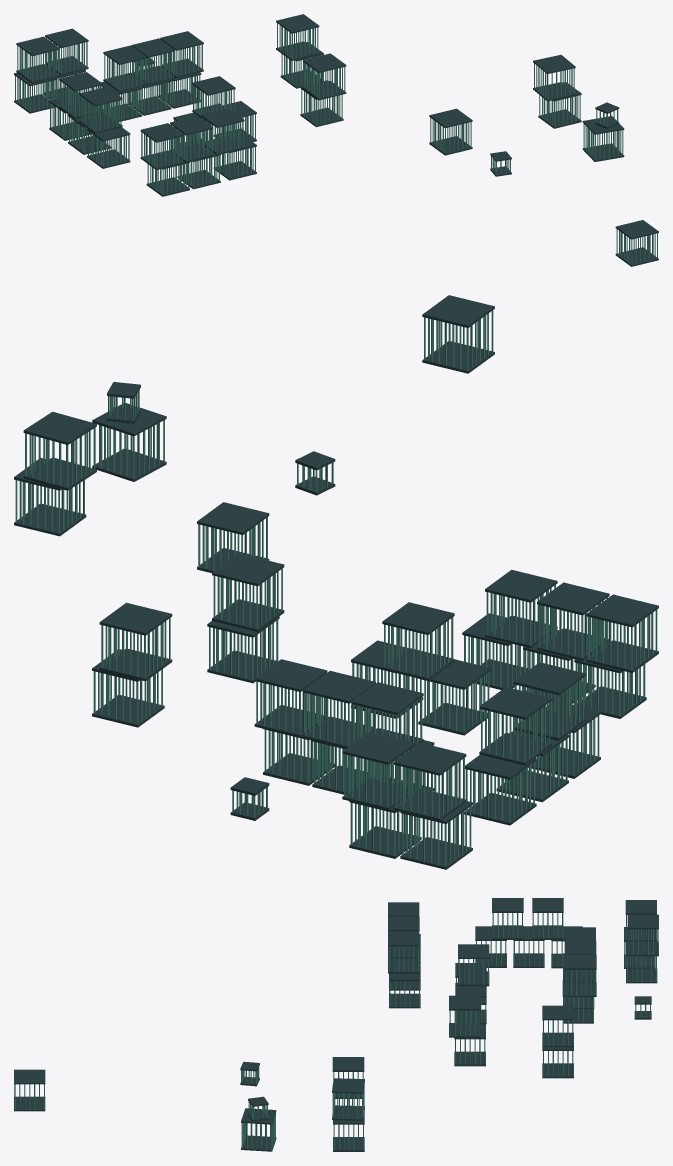
Rendered from cages.glb.
3 renders of one model, top to bottom at view 1: azimuth 30°, elevation 25°; view 2: azimuth 150°, elevation 25°; view 3: azimuth 270°, elevation 25°, orthographic. The views are drawn at different scales.
Visible parts, largest first — view 1: cages; view 2: cages; view 3: cages.
Boxes of the visible parts, x1=… form: cages: x1=14, y1=14, x2=658, y2=266; cages: x1=14, y1=295, x2=658, y2=869; cages: x1=14, y1=898, x2=658, y2=1151.
Size of the model in its own units: 22.21 by 3.03 by 30.72.
Materials: 2 (2 with a texture image).
